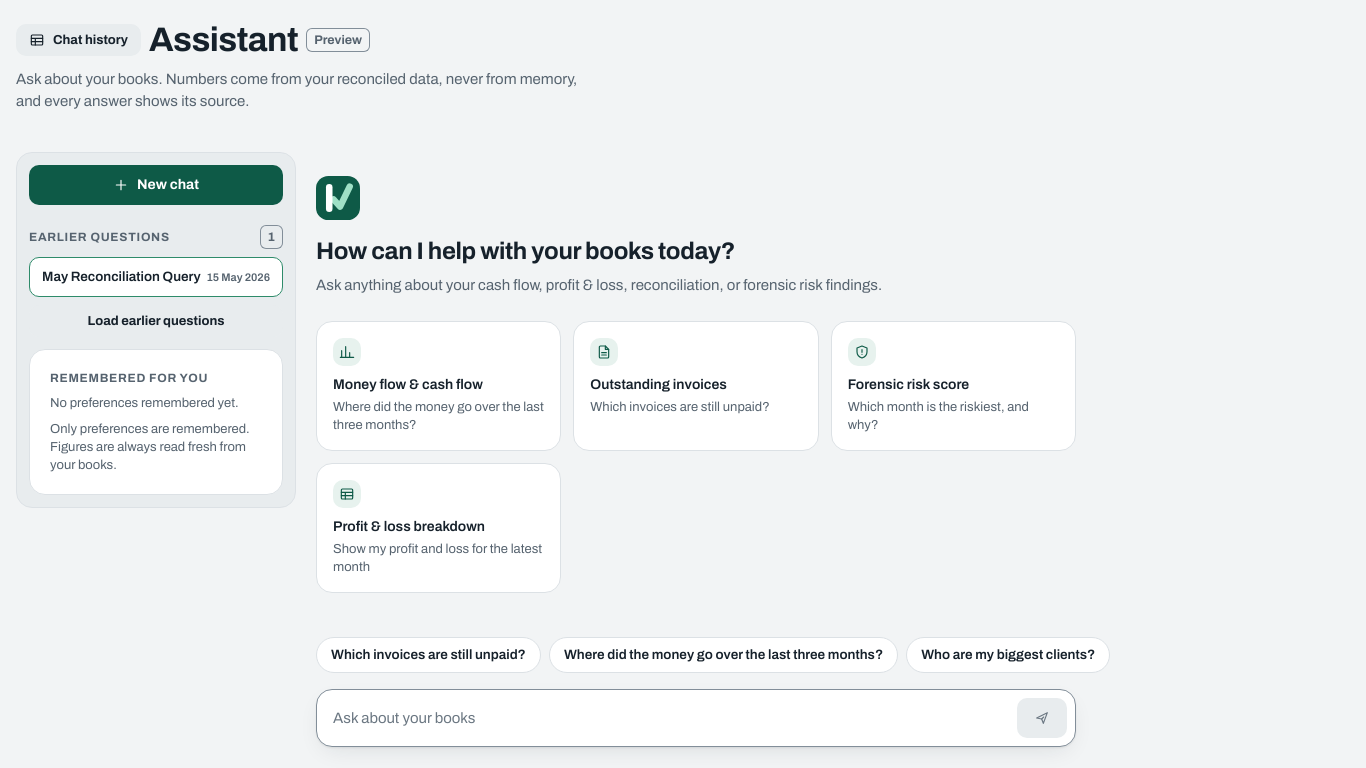
Test: AssistantPage › allows user to paginate earlier questions history
Expected: the text "May Reconciliation Query" is shown, x1=42 y1=266 x2=202 y2=288
Click the button "Load earlier questions": x=156, y=321 x1=29 y1=305 x2=283 y2=337
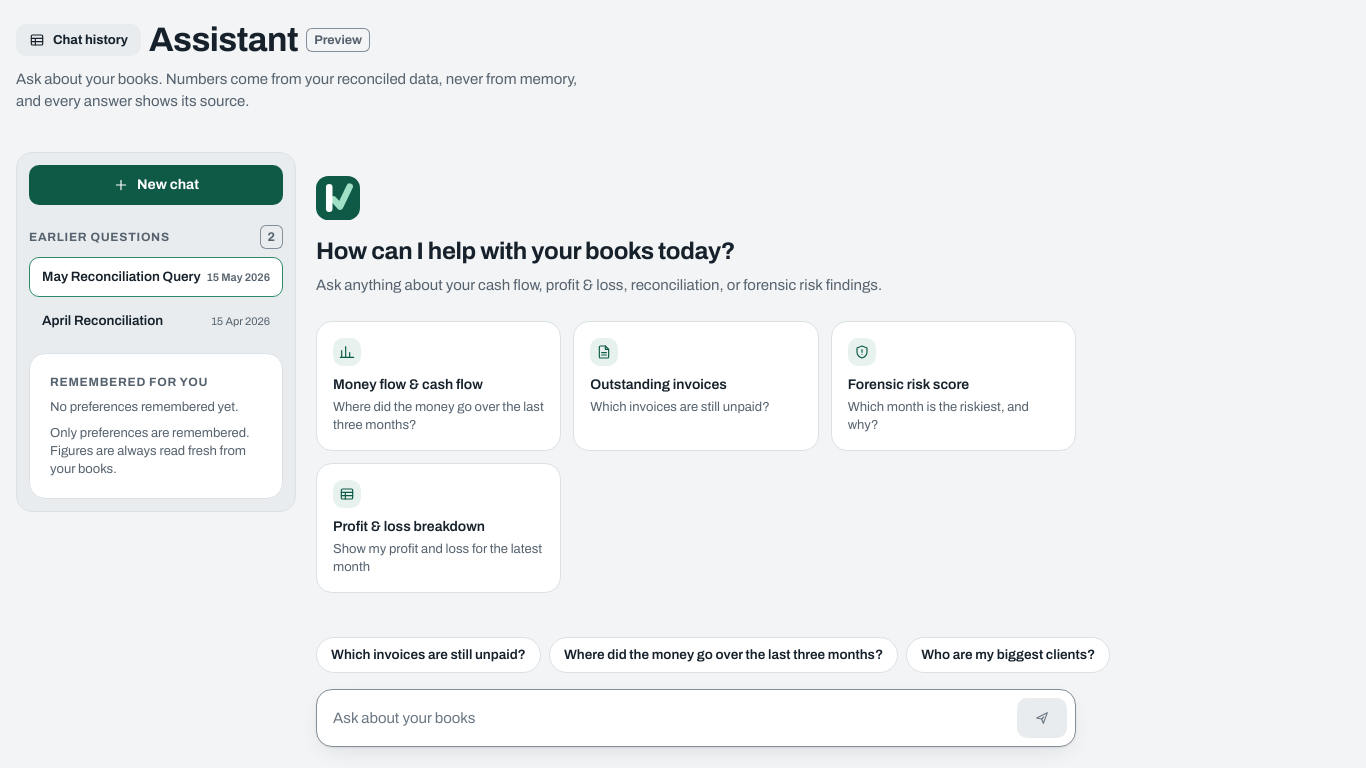
Result: the text "April Reconciliation" is shown at x1=42 y1=313 x2=163 y2=328
